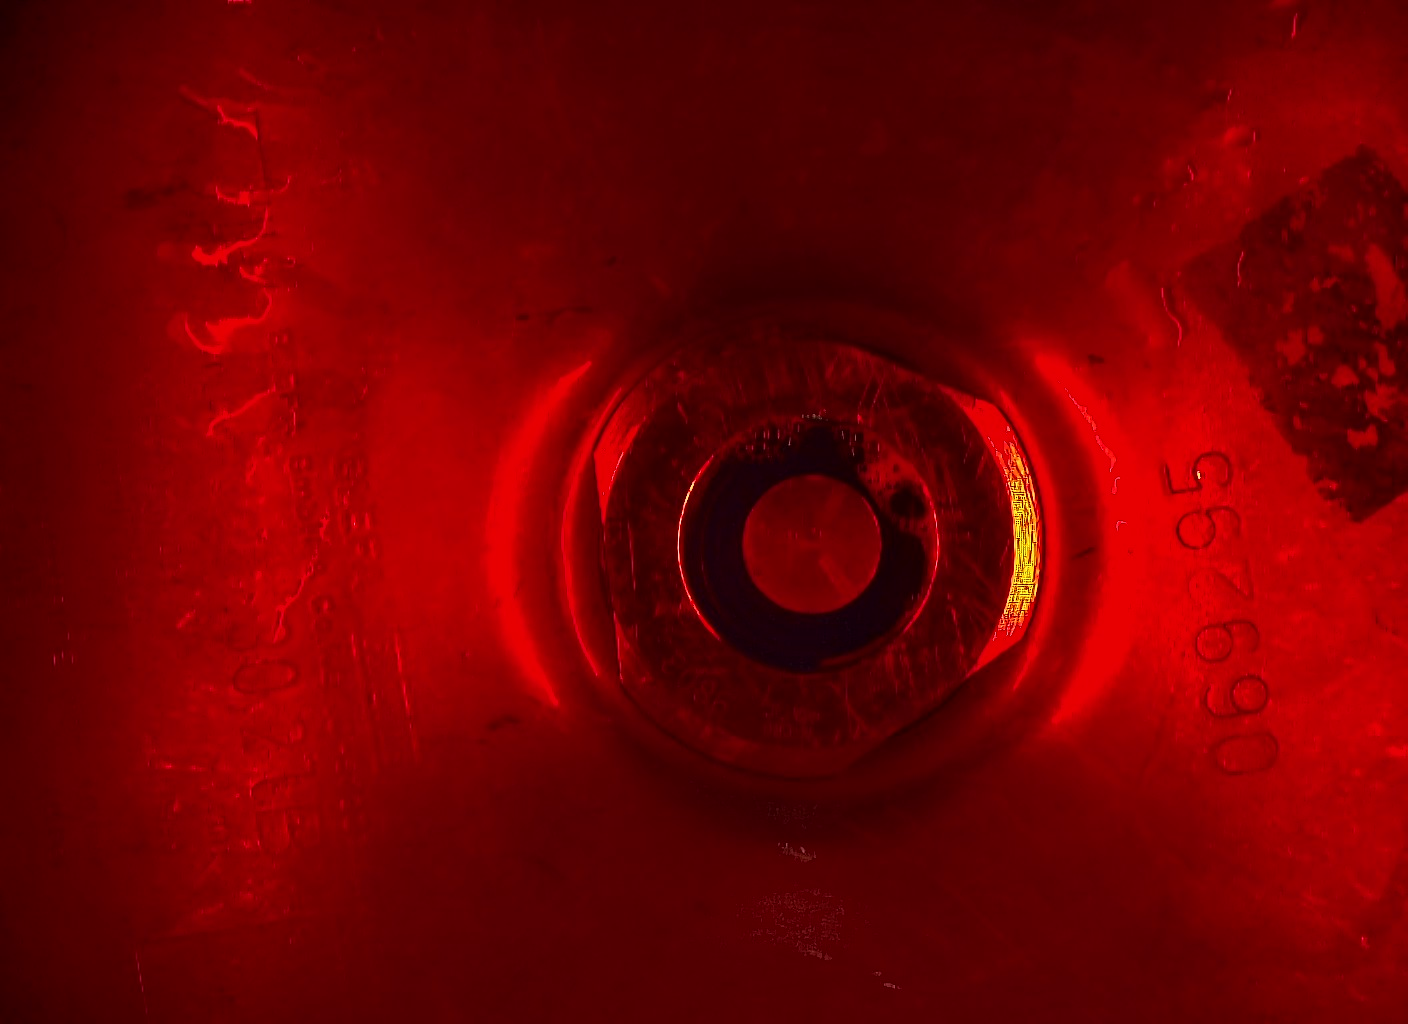pena: (835, 410, 944, 548), (713, 398, 834, 467)
